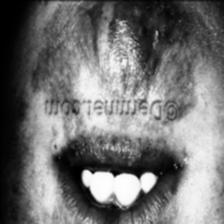Toxin: (73, 0, 191, 93), (83, 120, 186, 152), (0, 103, 25, 224), (209, 130, 224, 224), (47, 120, 82, 150), (61, 216, 173, 224)
